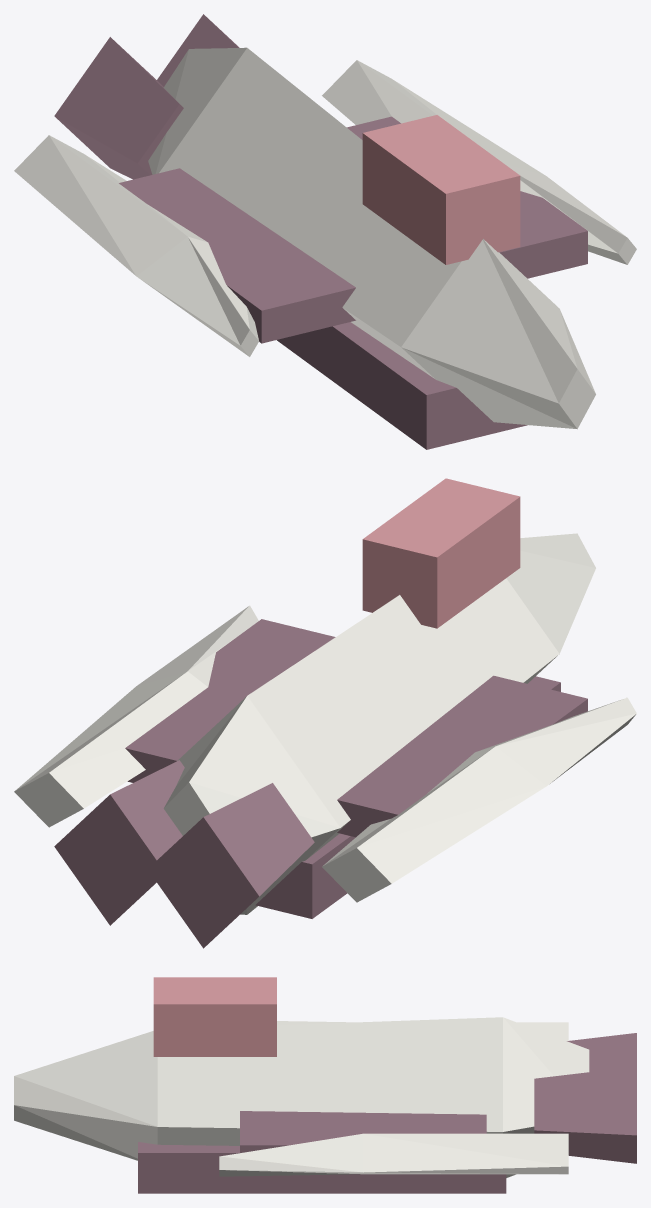
The picture shows the model from 3 angles, top to bottom: view 1: azimuth 30°, elevation 25°; view 2: azimuth 150°, elevation 25°; view 3: azimuth 270°, elevation 25°; orthographic projection. The views are drawn at different scales.
Size of the model in its own units: 3.45 by 2.05 by 6.12.
